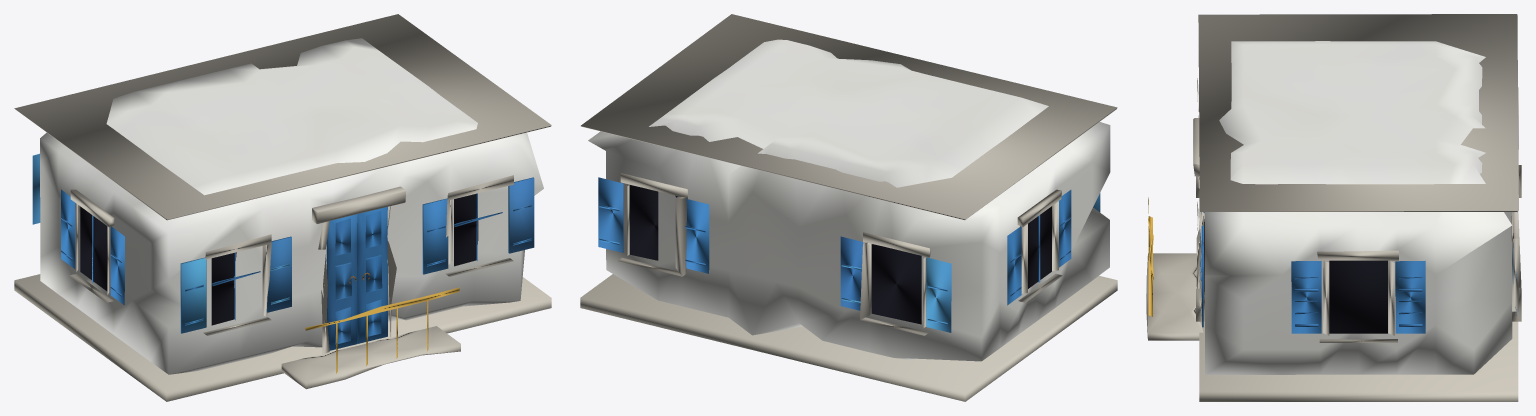
The model's file is home_villa-upper_t3_marble.glb.
3 views of the same model, side by side, from view 1: azimuth 30°, elevation 25°; view 2: azimuth 150°, elevation 25°; view 3: azimuth 270°, elevation 25° (orthographic). The views are drawn at different scales.
Parts seen in each view (by area): view 1: hall, marble, azure_wood, dark, gold; view 2: hall, marble, azure_wood, dark; view 3: hall, marble, azure_wood, dark, gold.
Boxes of the visible parts, x1,y1,x2,y2 form: hall: (40,38,543,374); marble: (14,14,551,401); azure_wood: (32,153,534,350); dark: (80,193,478,325); gold: (305,287,459,373); hall: (588,39,1110,361); marble: (580,14,1117,401); azure_wood: (598,177,1100,332); dark: (629,185,1051,324); hall: (1204,41,1512,374); marble: (1146,14,1521,401); azure_wood: (1200,212,1516,333); dark: (1203,216,1513,333); gold: (1148,197,1153,316).
Bounding box in the file's own units: 6.46 × 3.01 × 5.12.
